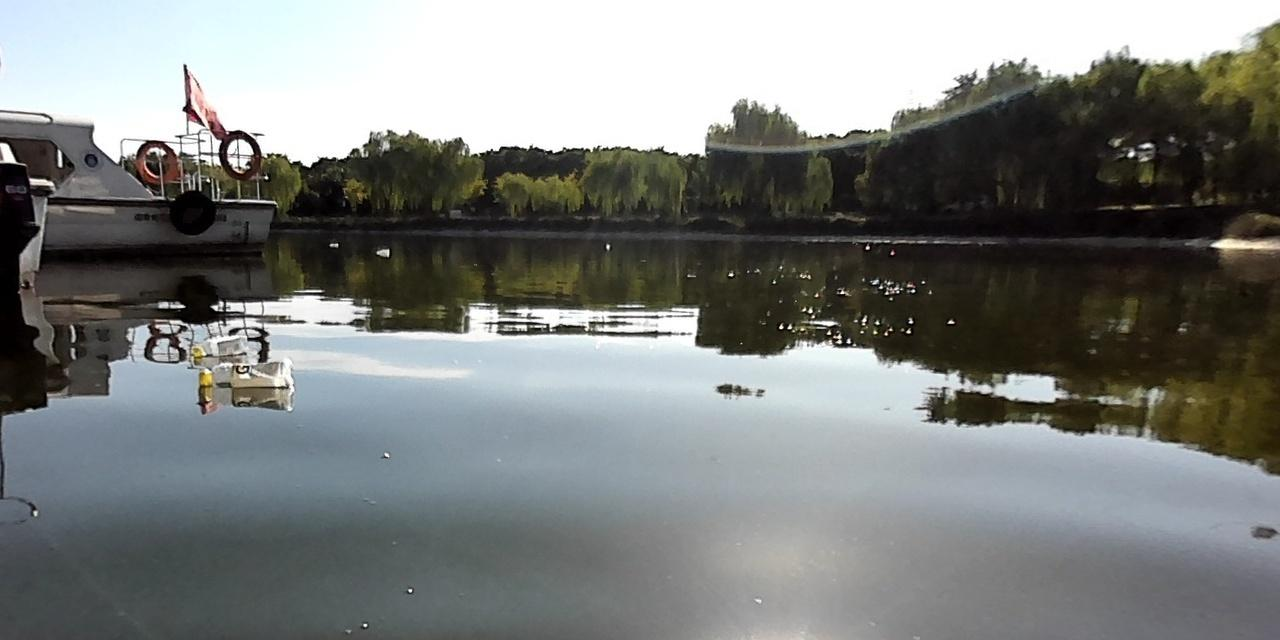bottle: (196, 358, 297, 391), (189, 333, 243, 357), (373, 247, 389, 257)
